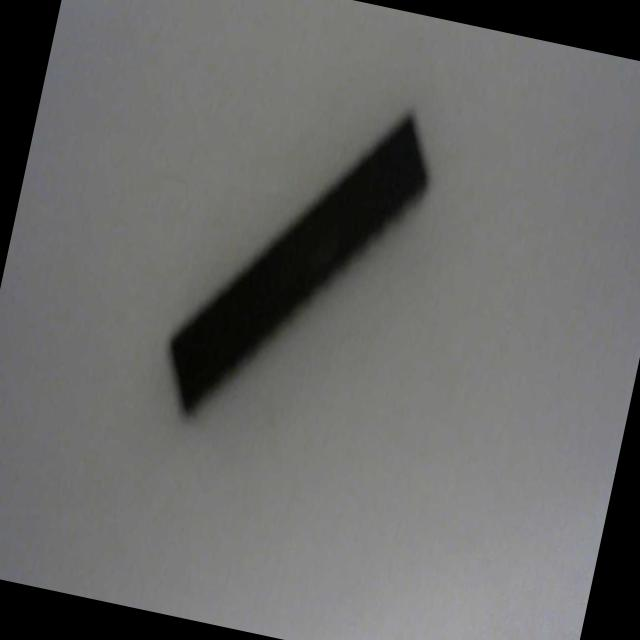atmega: (152, 66, 446, 460)
